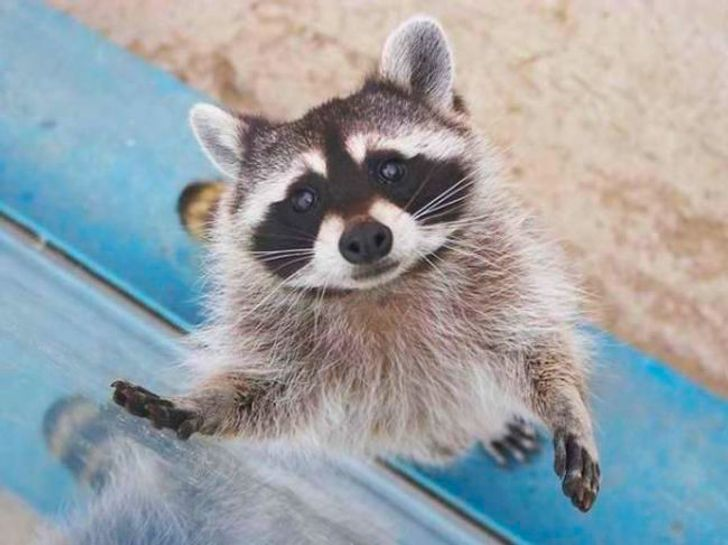raccoon: (183, 43, 598, 505)
